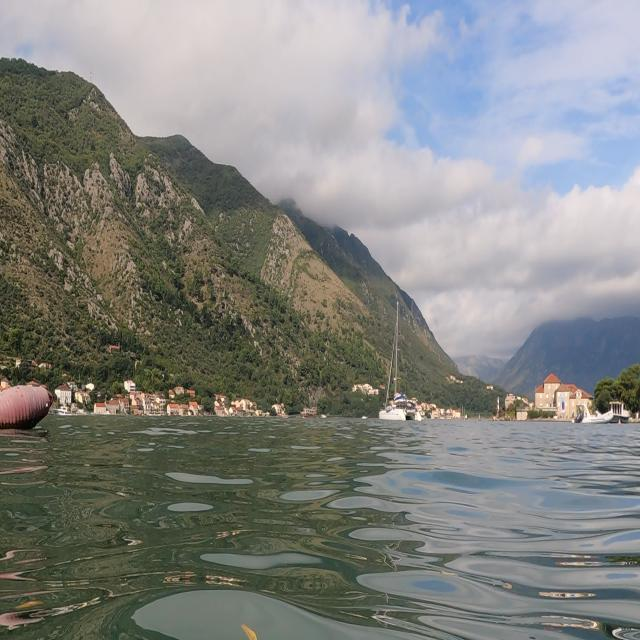boat: (374, 289, 430, 437), (560, 392, 632, 438)
buoy: (0, 371, 61, 449)
